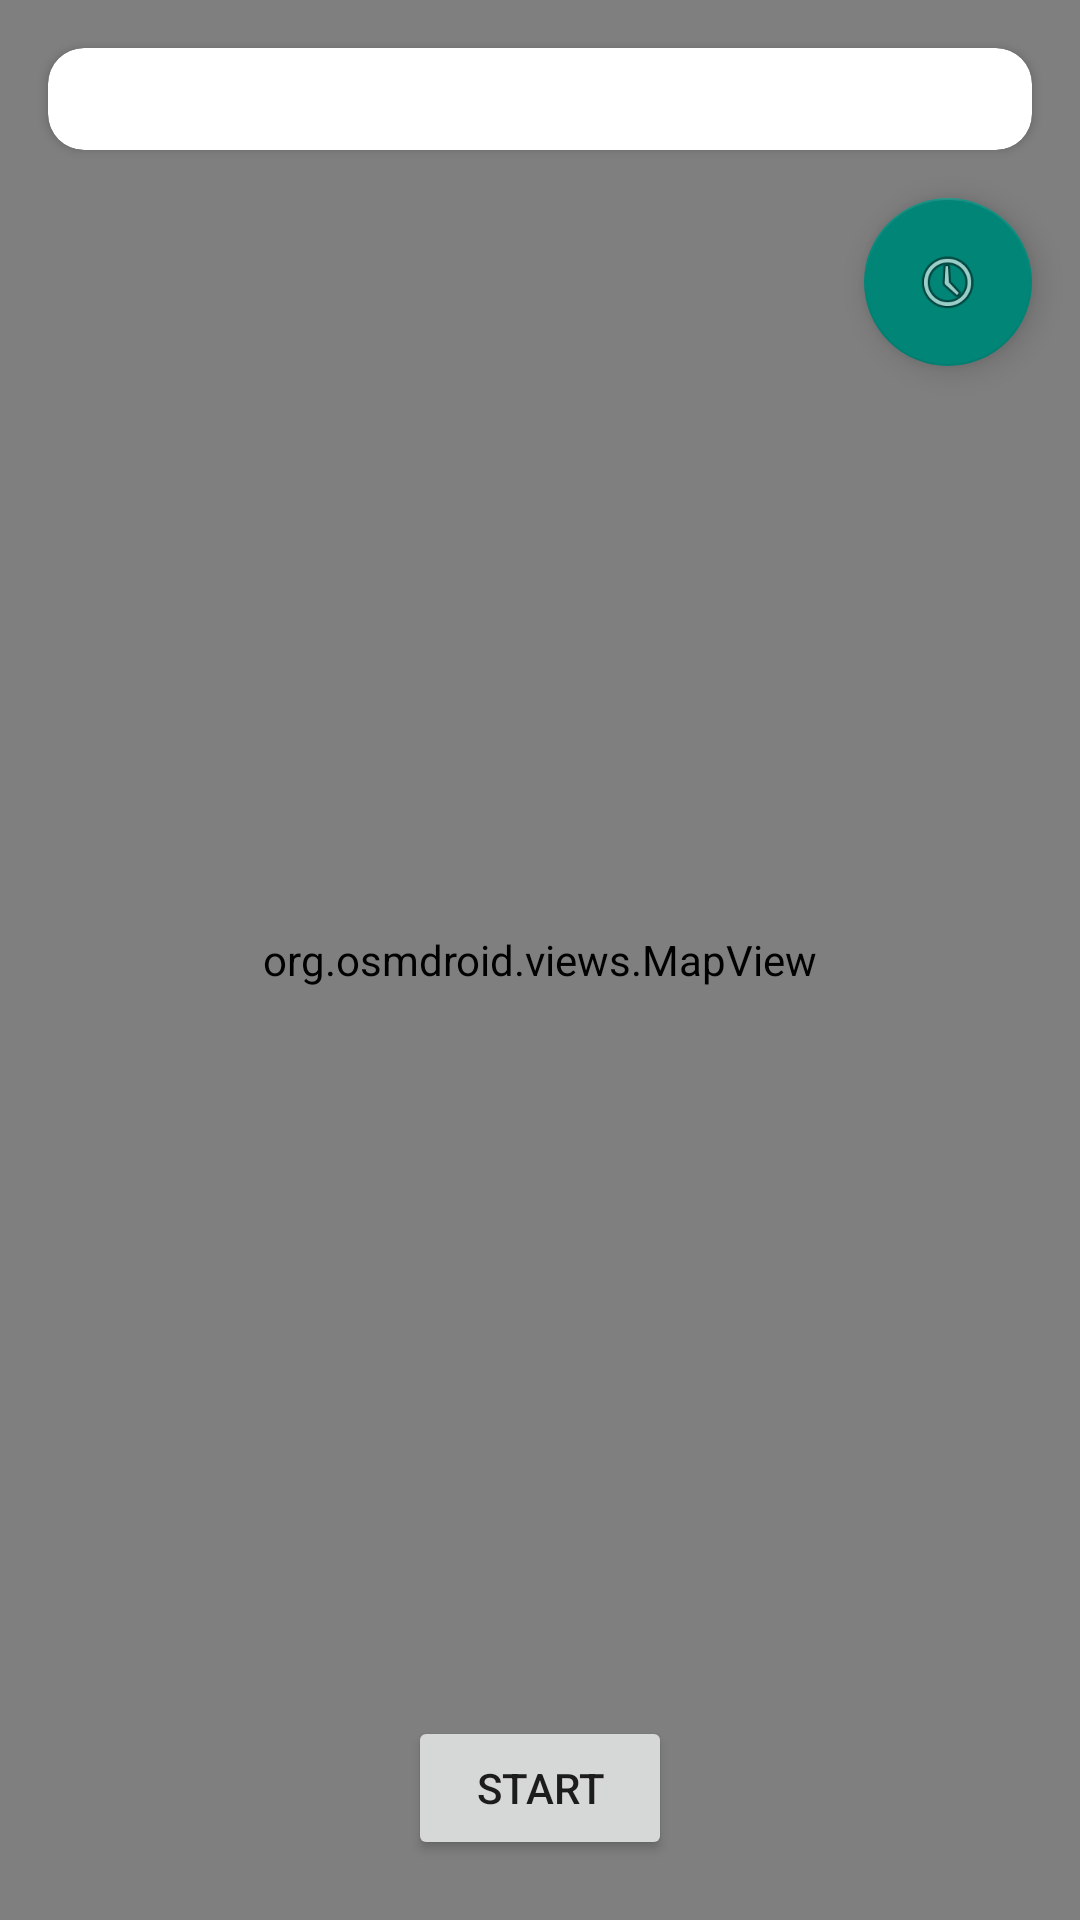

Named icons in this screenshot (1080×1920) and their centers, (x,y):
button for workout history: (948,282)
